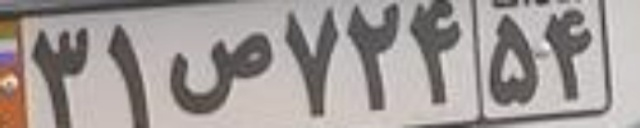1: (102, 23, 154, 127)
2: (345, 2, 400, 111)
3: (27, 26, 95, 127)
4: (408, 1, 462, 105), (542, 7, 595, 101)
5: (483, 13, 538, 106)
7: (281, 5, 340, 119)
saat: (166, 28, 277, 114)
